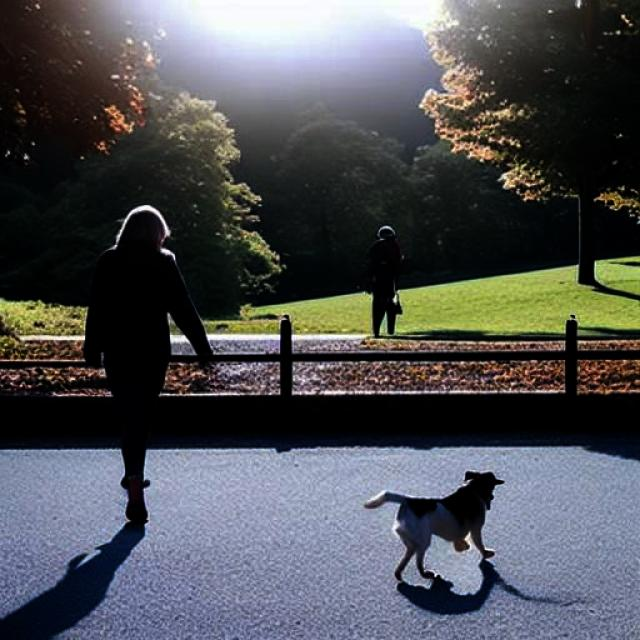Unleashed_Dog: (102, 348, 504, 580)
